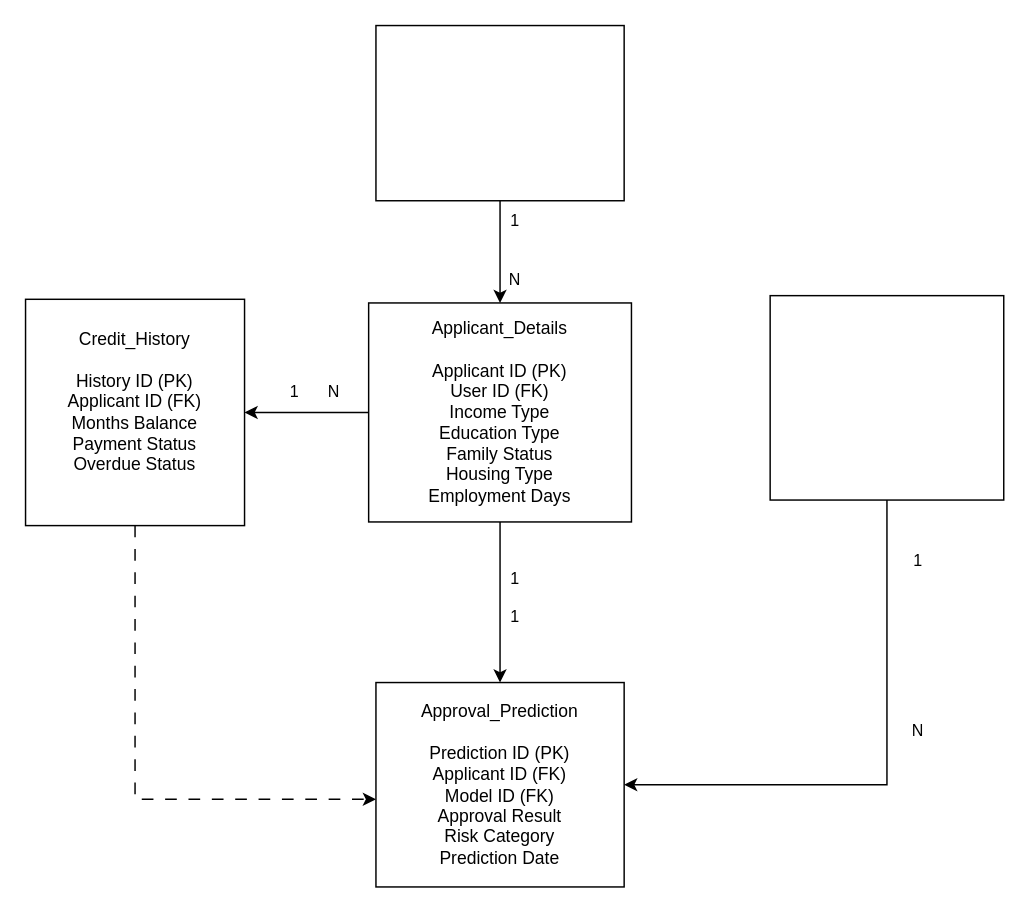
Image size: 1029x913. Some labels were removed from this diagram. The centre of each missing label's shape, as x and y in pixels:
"ML_Model Model ID(PK) Model Name Algorithm Type Accuracy Model File" belongs at pixel 886 397.
"Users User ID (PK) Name Email Password Role" belongs at pixel 499 112.
